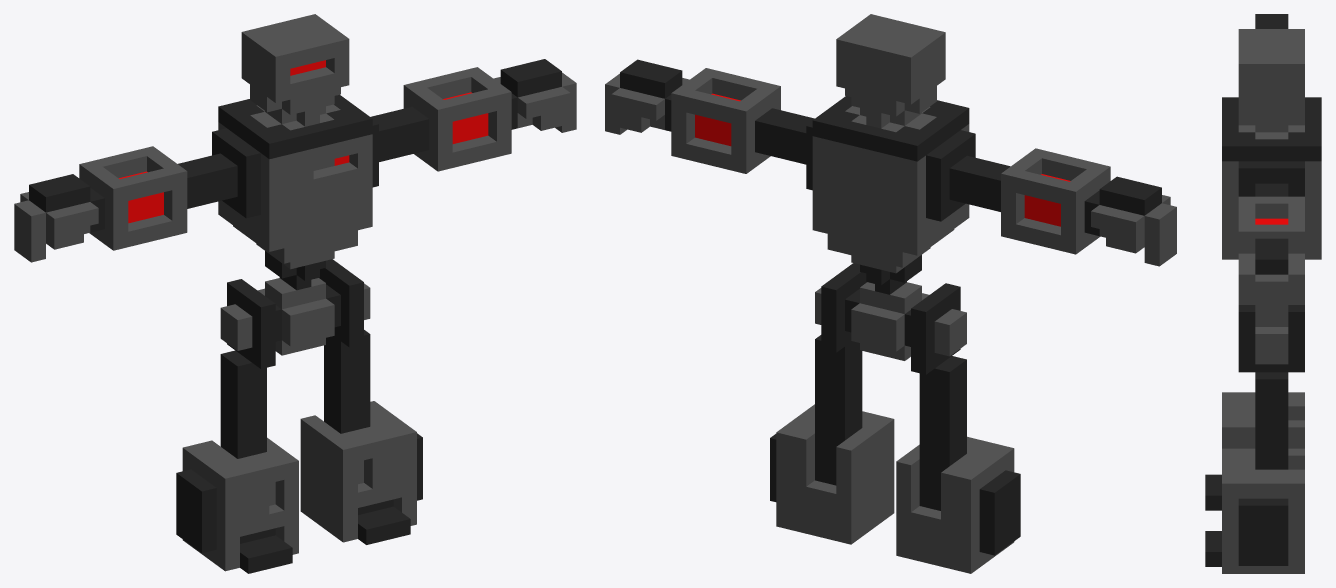
File: Robot.obj
3 renders of one model, left to right at view 1: azimuth 30°, elevation 25°; view 2: azimuth 150°, elevation 25°; view 3: azimuth 270°, elevation 25°, orthographic. The views are drawn at different scales.
Bounding box in the file's own units: 3.7 × 3.2 × 0.7.
1 material, 1 textured.
